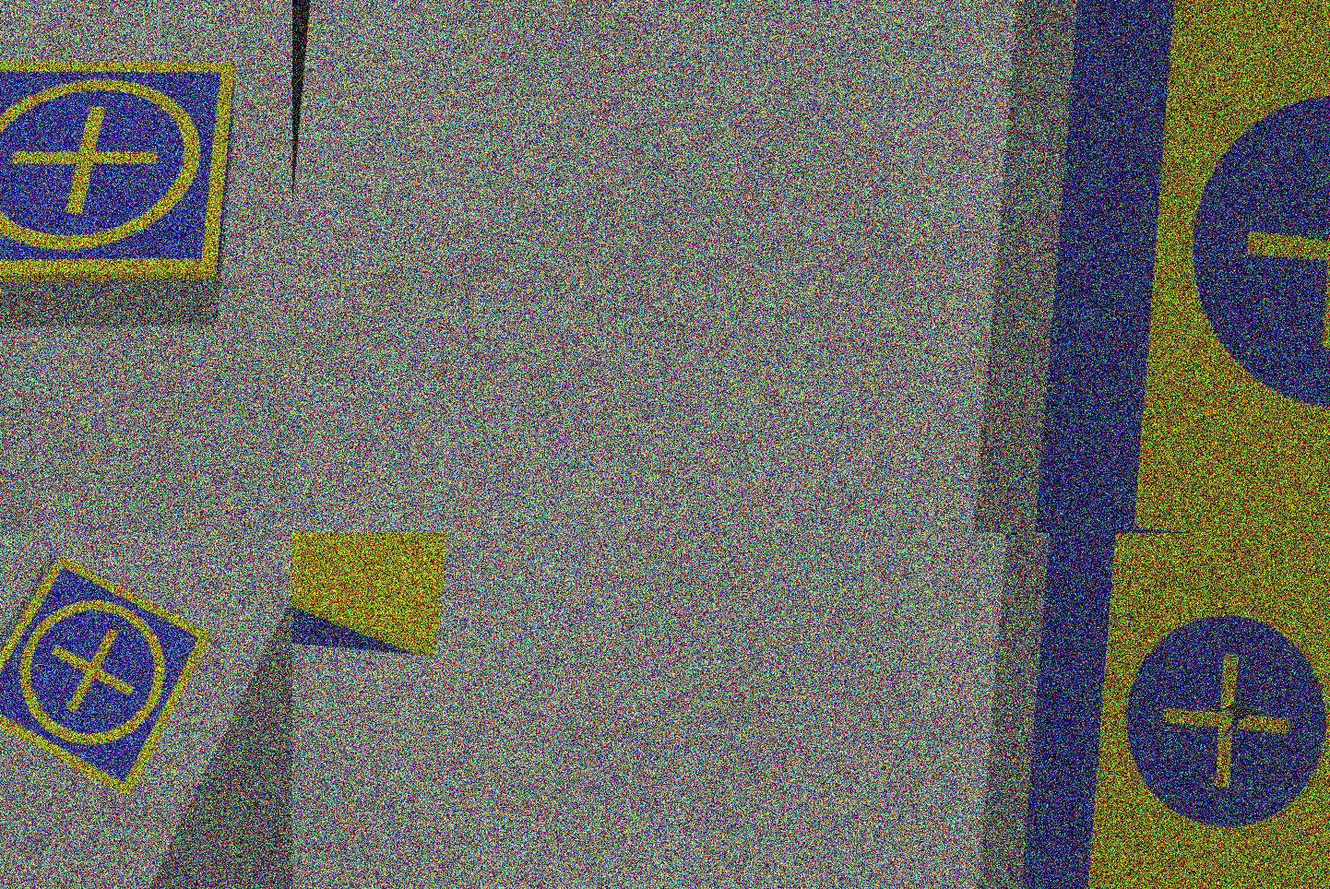large_base: (1020, 1, 1330, 534), (1012, 534, 1330, 889)
small_base: (1, 36, 243, 308), (1, 552, 219, 801)
